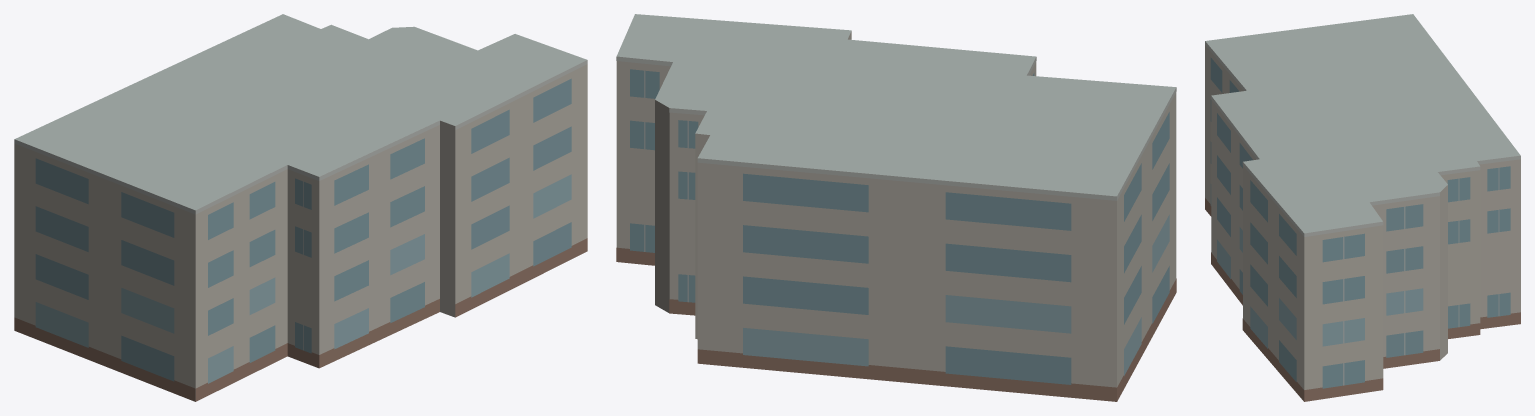
The model's file is survey-upis-32625196.glb.
3 views of the same model, side by side, from view 1: azimuth 30°, elevation 25°; view 2: azimuth 150°, elevation 25°; view 3: azimuth 270°, elevation 25° (orthographic). The views are drawn at different scales.
Visible parts, largest first — view 1: survey-upis-32625196.tmp; view 2: survey-upis-32625196.tmp; view 3: survey-upis-32625196.tmp.
Boxes of the visible parts, x1,y1,x2,y2 form: survey-upis-32625196.tmp: (14,14,587,401); survey-upis-32625196.tmp: (616,14,1176,401); survey-upis-32625196.tmp: (1205,14,1520,401).
Size of the model in its own units: 31.02 by 11.1 by 18.86.
